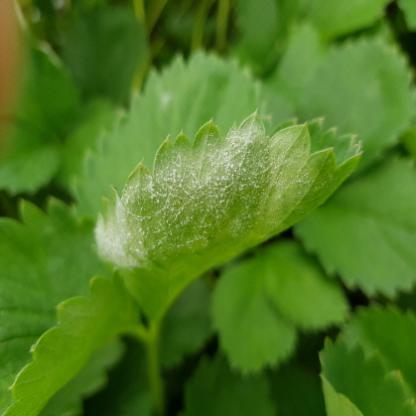Strawberry_Powdery_Mildew_Leaf: (90, 106, 365, 322)
